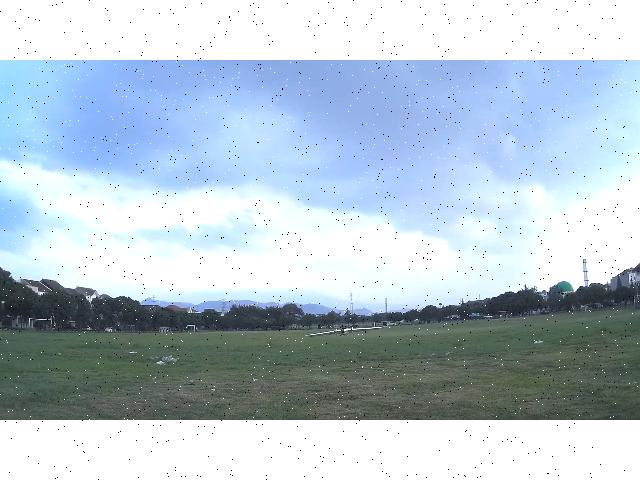Anti-Drone: (306, 326, 386, 338)
